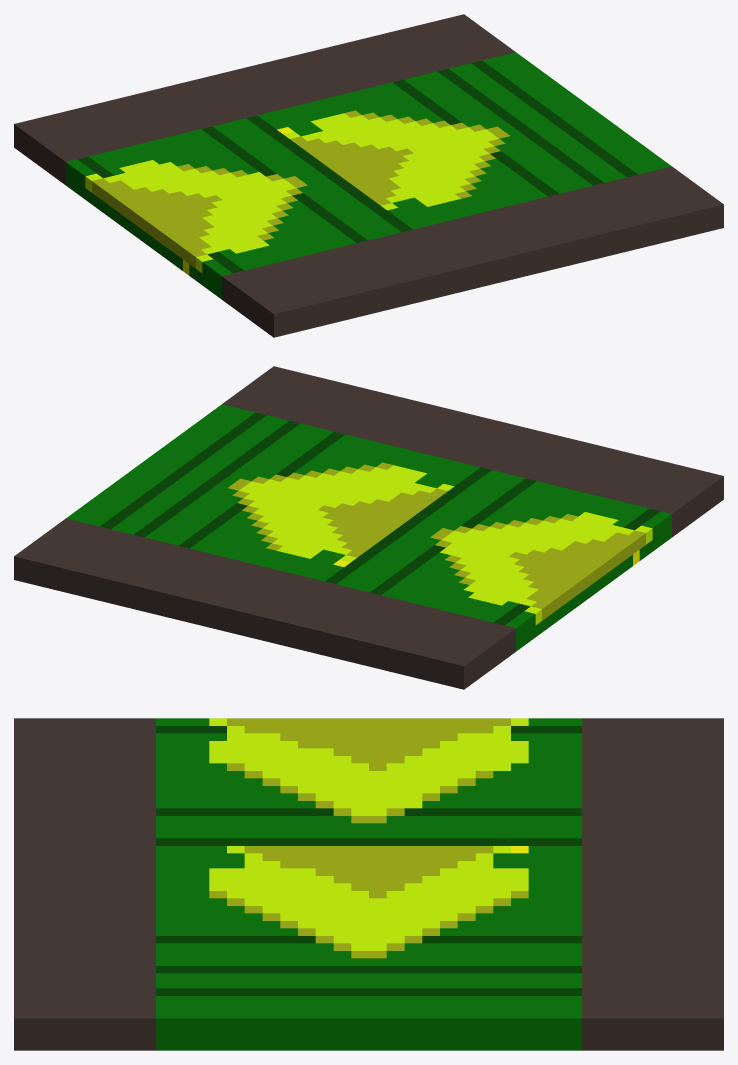
File: 传送带.obj
3 renders of one model, top to bottom at view 1: azimuth 30°, elevation 25°; view 2: azimuth 150°, elevation 25°; view 3: azimuth 270°, elevation 25°, orthographic. The views are drawn at different scales.
Bounding box in the file's own units: 40 × 2 × 40.
